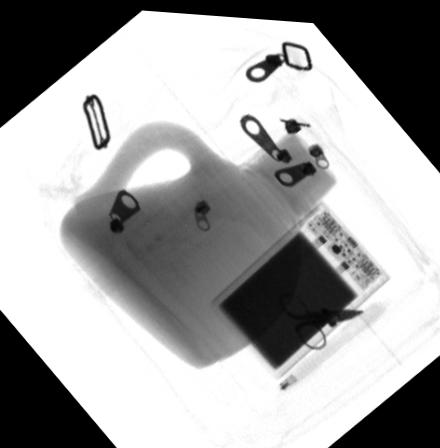Powerbank: (205, 193, 396, 374)
Scissors: (278, 285, 367, 345)
